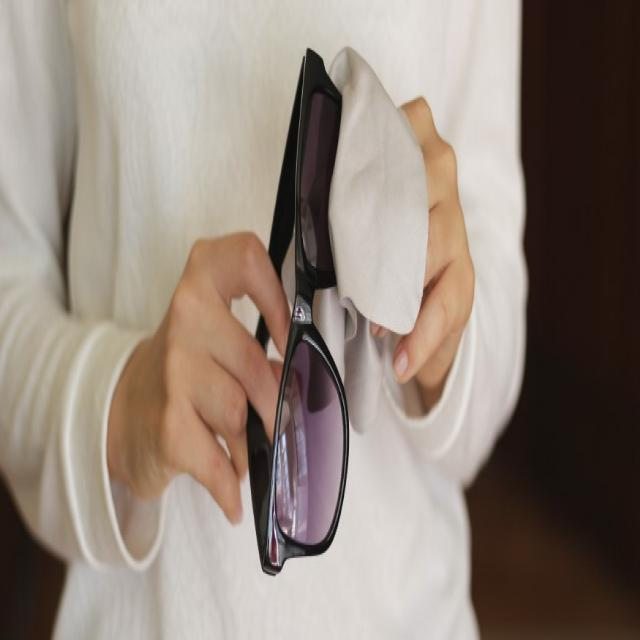glasses: (203, 30, 380, 612)
